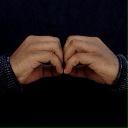hand: (63, 34, 119, 85), (9, 34, 63, 84)
